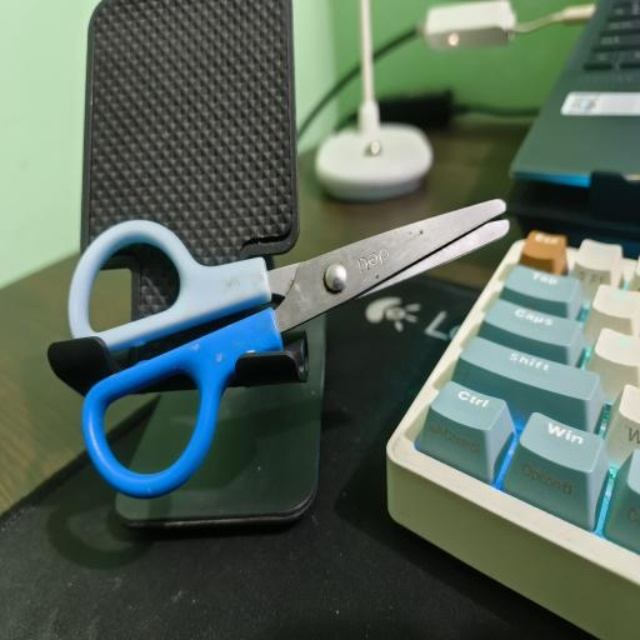scissor: (65, 195, 511, 500)
